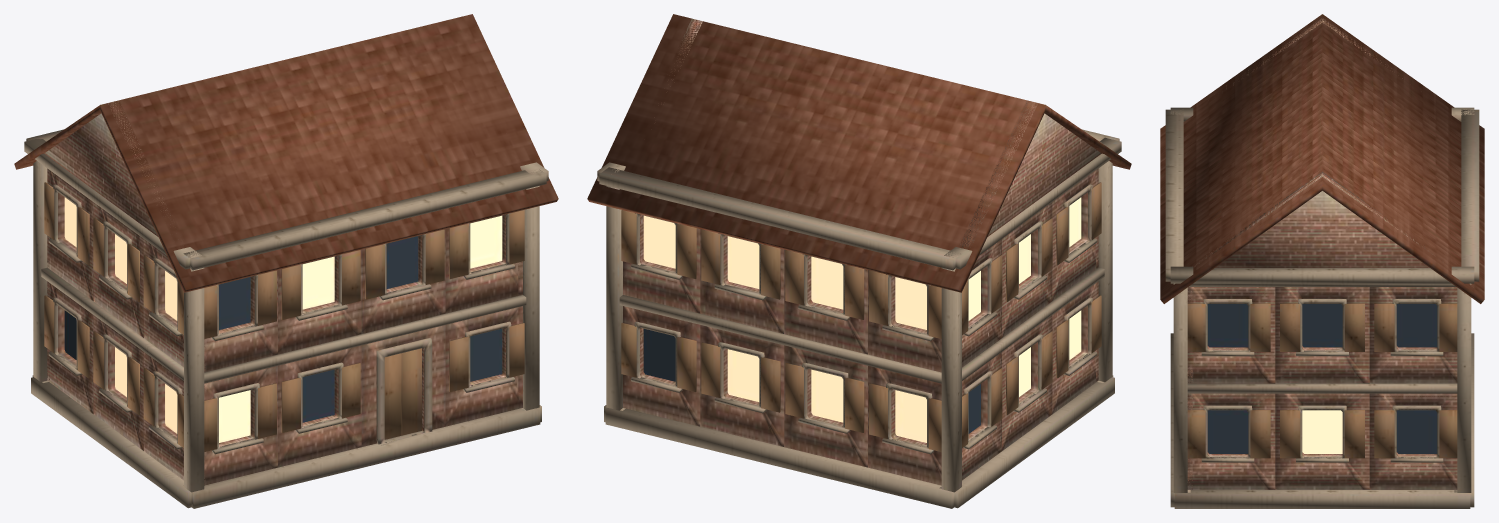
The model's file is cottage.glb.
3 renders of one model, left to right at view 1: azimuth 30°, elevation 25°; view 2: azimuth 150°, elevation 25°; view 3: azimuth 270°, elevation 25°, orthographic. The views are drawn at different scales.
Visible parts, largest first — view 1: cottage_baked; view 2: cottage_baked; view 3: cottage_baked.
Boxes of the visible parts, x1,y1,x2,y2 form: cottage_baked: (14,14,558,508); cottage_baked: (587,14,1131,508); cottage_baked: (1160,14,1484,508).
Bounding box in the file's own units: 10 × 8.93 × 8.
1 material, 1 textured.
